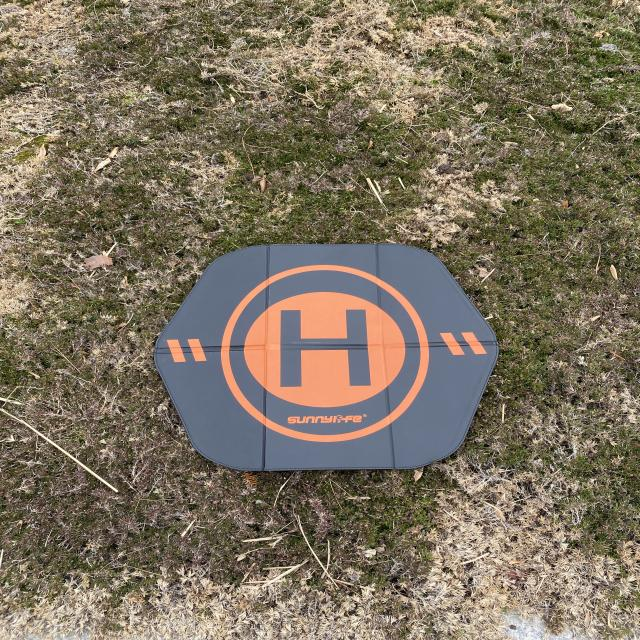helipad: (215, 260, 437, 447)
